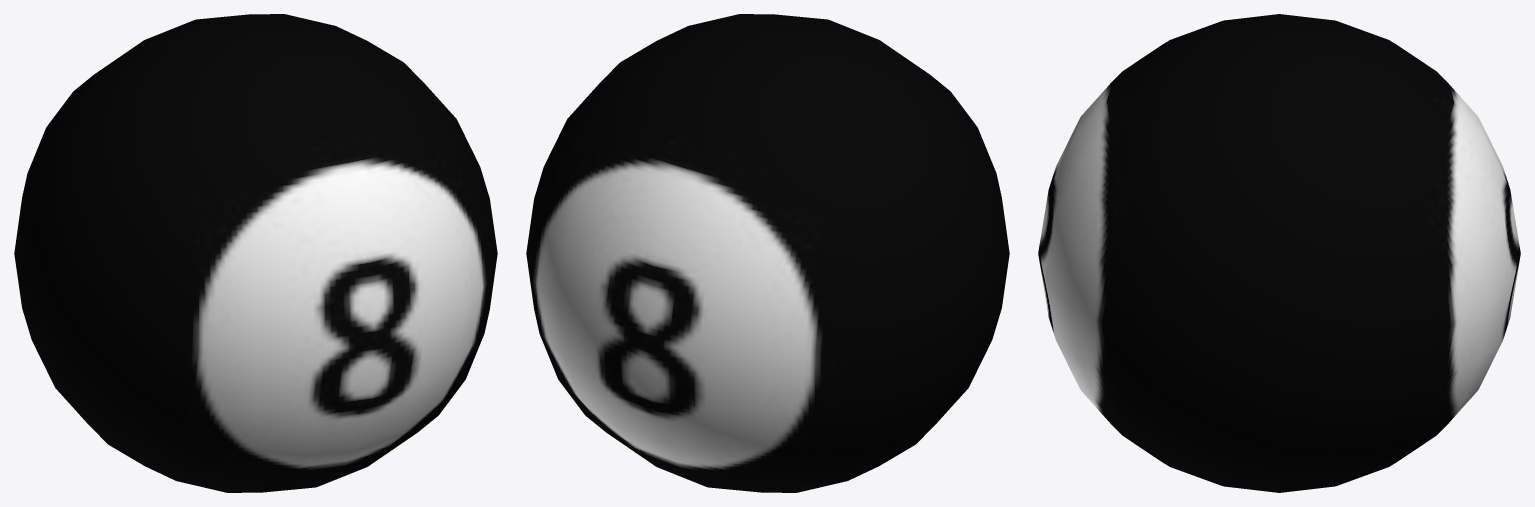
Rendered from 8ball.fbx.
The picture shows the model from 3 angles, left to right: view 1: azimuth 30°, elevation 25°; view 2: azimuth 150°, elevation 25°; view 3: azimuth 270°, elevation 25°; orthographic projection.
Visible parts, largest first — view 1: 8BALL.001; view 2: 8BALL.001; view 3: 8BALL.001.
Part boxes in pixels (box(x1,y1,x2,y2)): 8BALL.001: box(14, 14, 497, 492); 8BALL.001: box(526, 14, 1009, 492); 8BALL.001: box(1038, 14, 1520, 492).
Size of the model in its own units: 41.51 by 41.51 by 41.51.
1 material, 1 textured.
